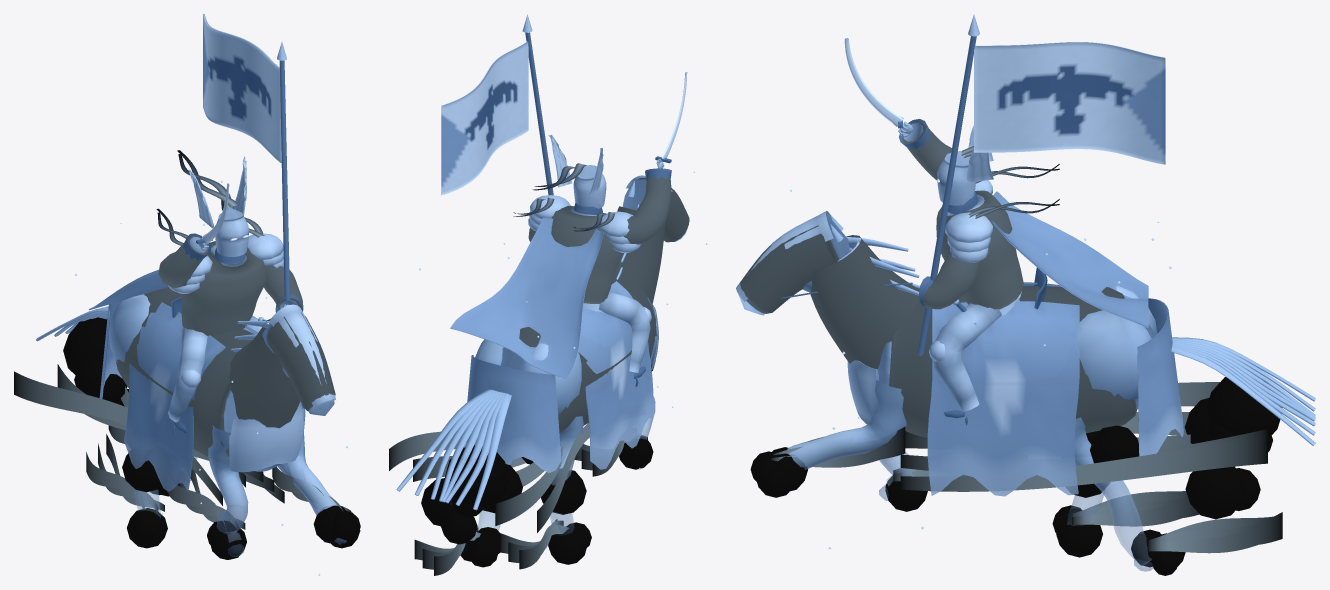
The model's file is vaidas.glb.
The picture shows the model from 3 angles, left to right: view 1: azimuth 30°, elevation 25°; view 2: azimuth 150°, elevation 25°; view 3: azimuth 270°, elevation 25°; orthographic projection. The views are drawn at different scales.
Visible parts, largest first — view 1: vaidas-ghost, vaidas-fx; view 2: vaidas-ghost, vaidas-fx; view 3: vaidas-ghost, vaidas-fx.
Boxes of the visible parts, x1,y1,x2,y2 form: vaidas-ghost: [36, 14, 346, 556]; vaidas-fx: [14, 150, 360, 559]; vaidas-ghost: [396, 14, 689, 535]; vaidas-fx: [389, 163, 689, 575]; vaidas-ghost: [736, 14, 1315, 571]; vaidas-fx: [739, 122, 1282, 575].
Bounding box in the file's own units: 0.8933 × 2.66 × 2.37.
